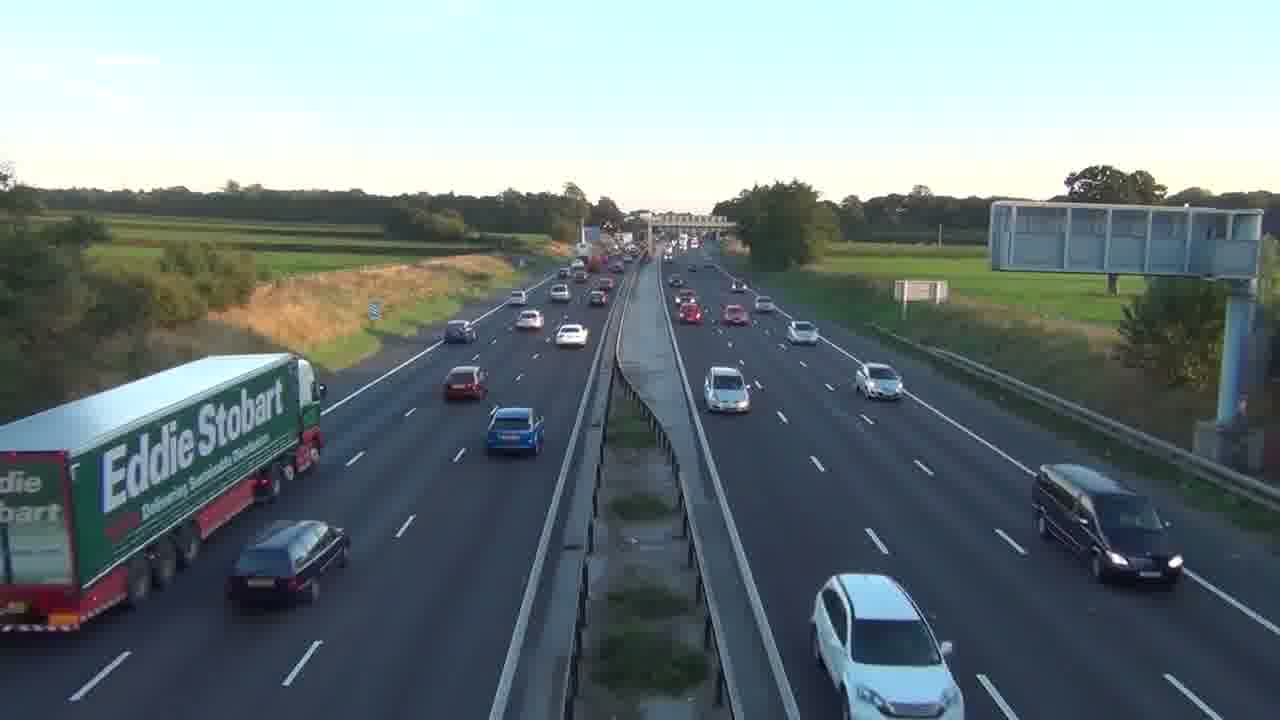car: (810, 571, 965, 719), (485, 405, 546, 456), (703, 365, 752, 414), (855, 361, 904, 402), (444, 365, 488, 402), (555, 322, 589, 349), (786, 320, 820, 345), (445, 320, 477, 345)
truck: (0, 351, 325, 634), (1031, 462, 1186, 586), (225, 519, 351, 608)
